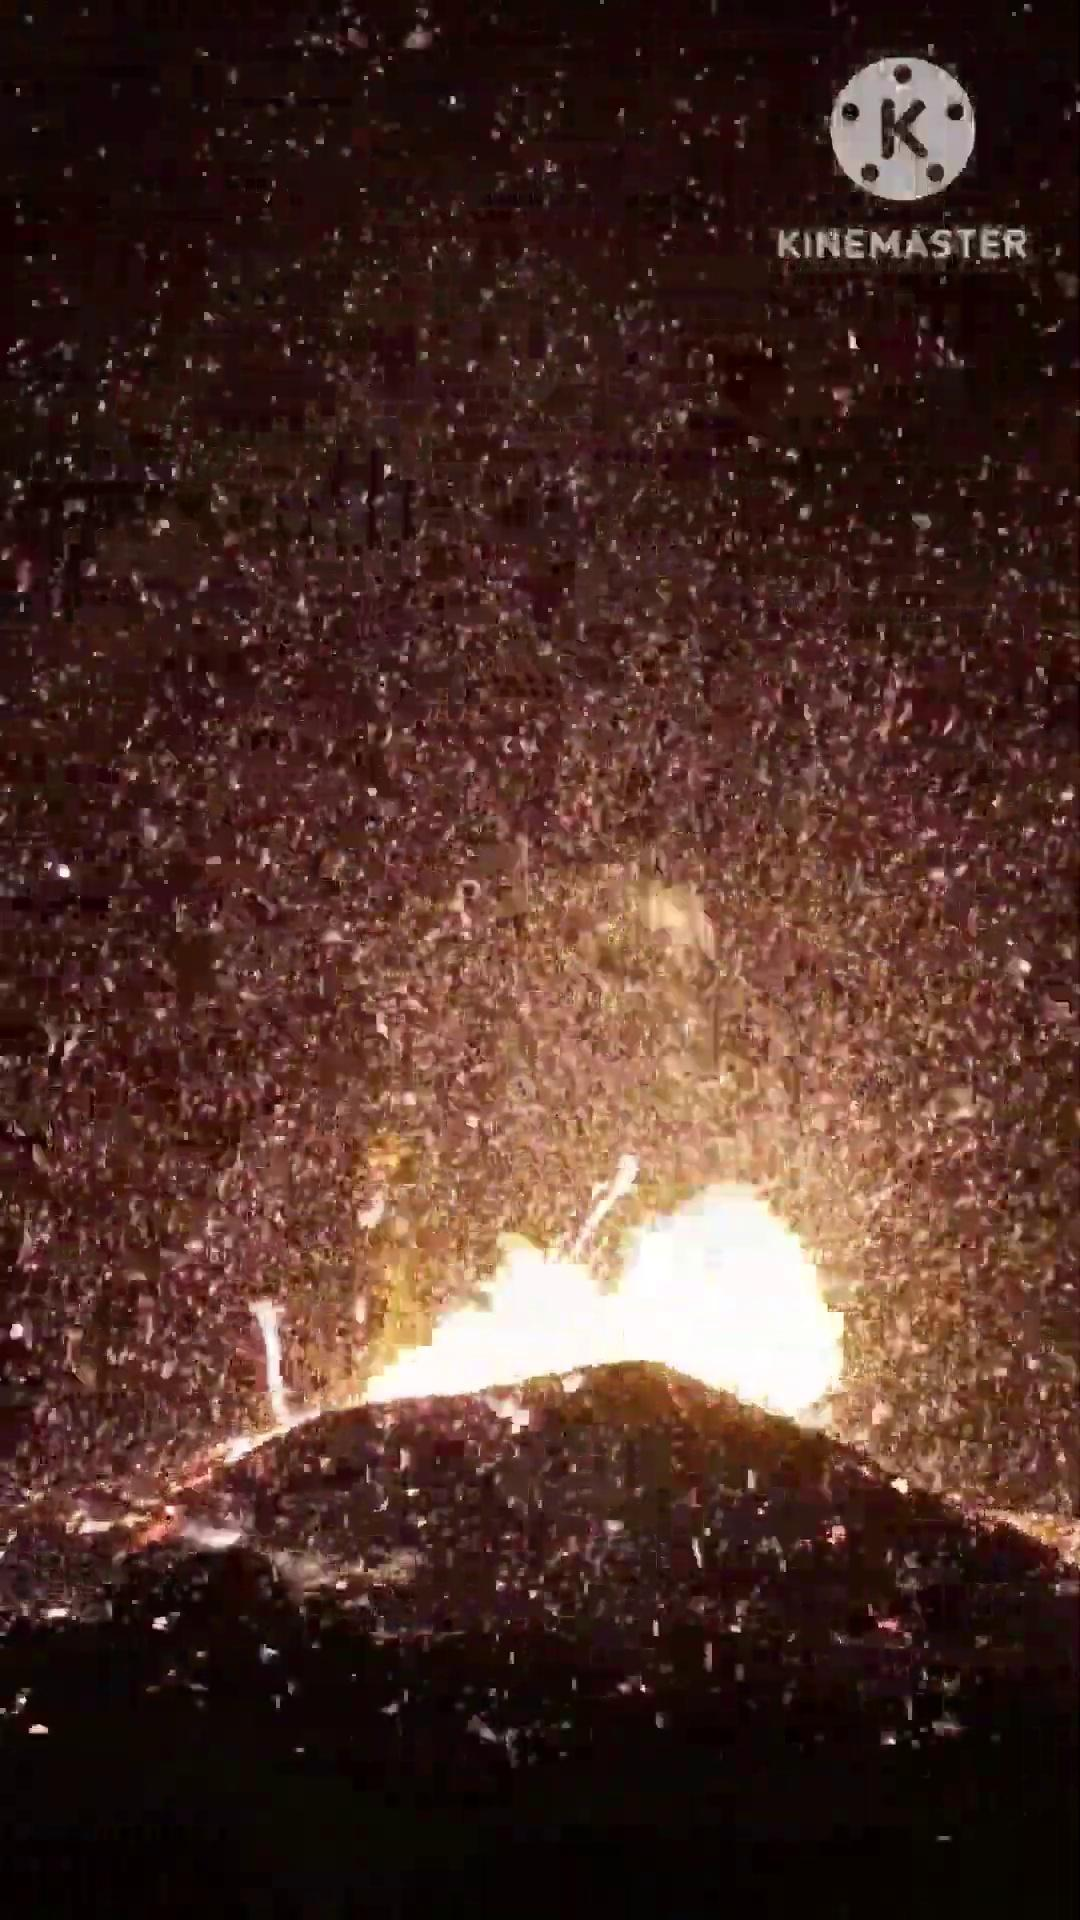fire: (57, 537, 972, 1727)
